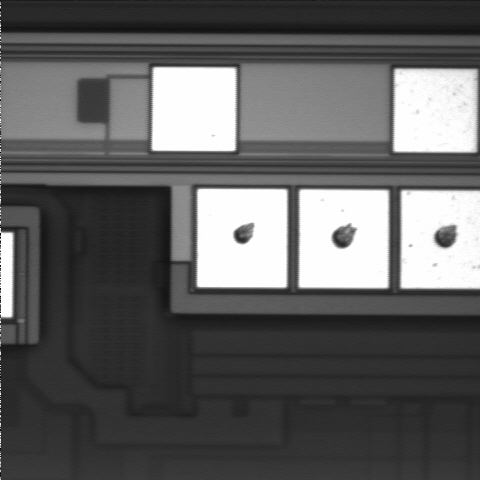pad: (197, 189, 287, 287), (299, 190, 388, 288), (152, 67, 236, 151), (394, 69, 476, 152)
